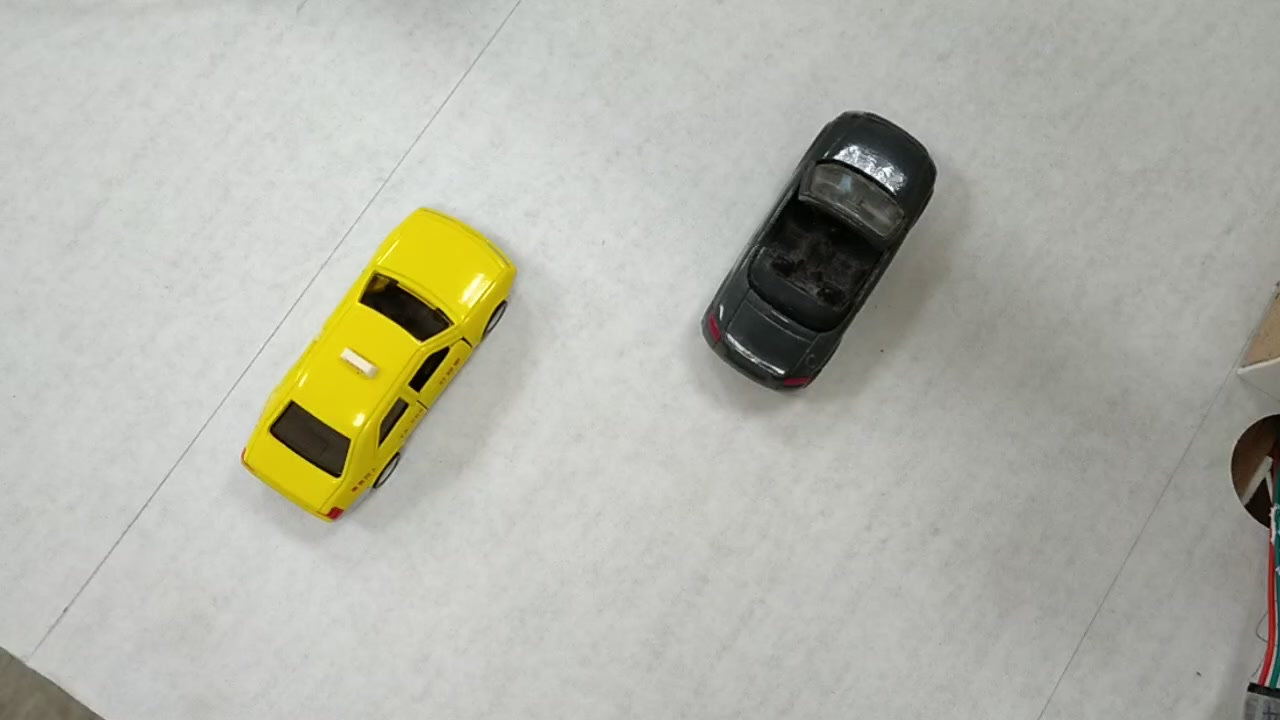car: (237, 204, 515, 516), (697, 108, 934, 386)
